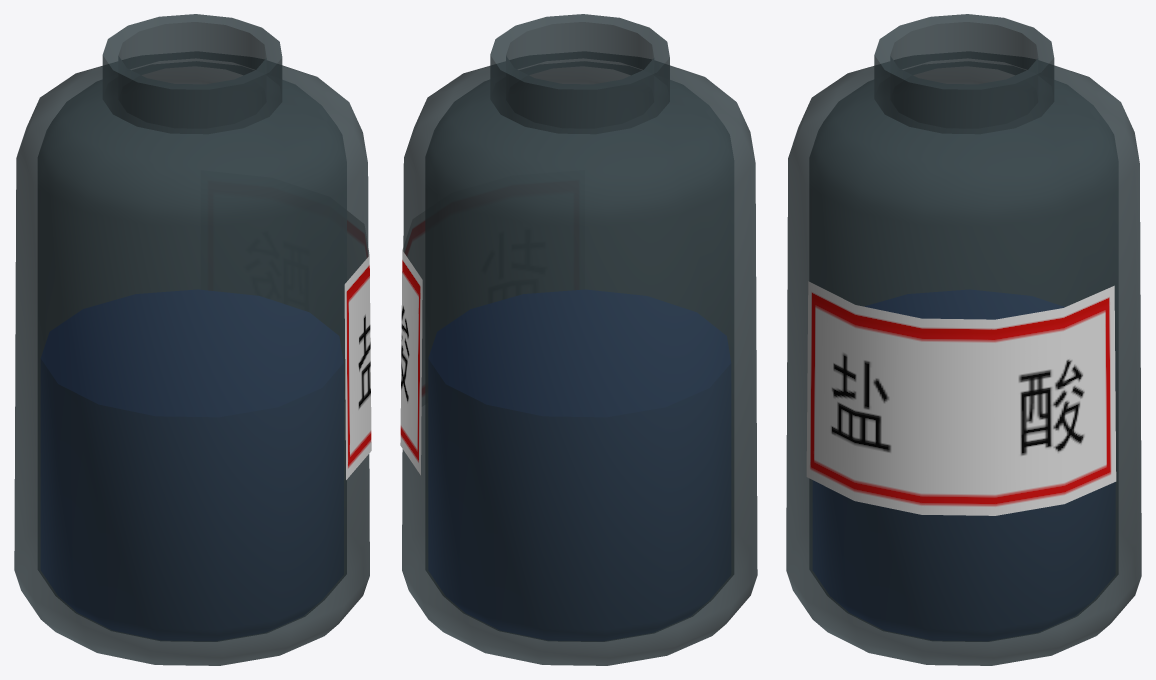
3 views of the same model, side by side, from view 1: azimuth 30°, elevation 25°; view 2: azimuth 150°, elevation 25°; view 3: azimuth 270°, elevation 25° (orthographic).
Visible parts, largest first — view 1: SM_盐酸01_瓶体; view 2: SM_盐酸01_瓶体; view 3: SM_盐酸01_瓶体.
Part boxes in pixels (bbox=[...]): SM_盐酸01_瓶体: bbox=[14, 14, 371, 665]; SM_盐酸01_瓶体: bbox=[400, 14, 757, 665]; SM_盐酸01_瓶体: bbox=[786, 14, 1141, 665].
Size of the model in its own units: 0.047 by 0.0808 by 0.0468.
